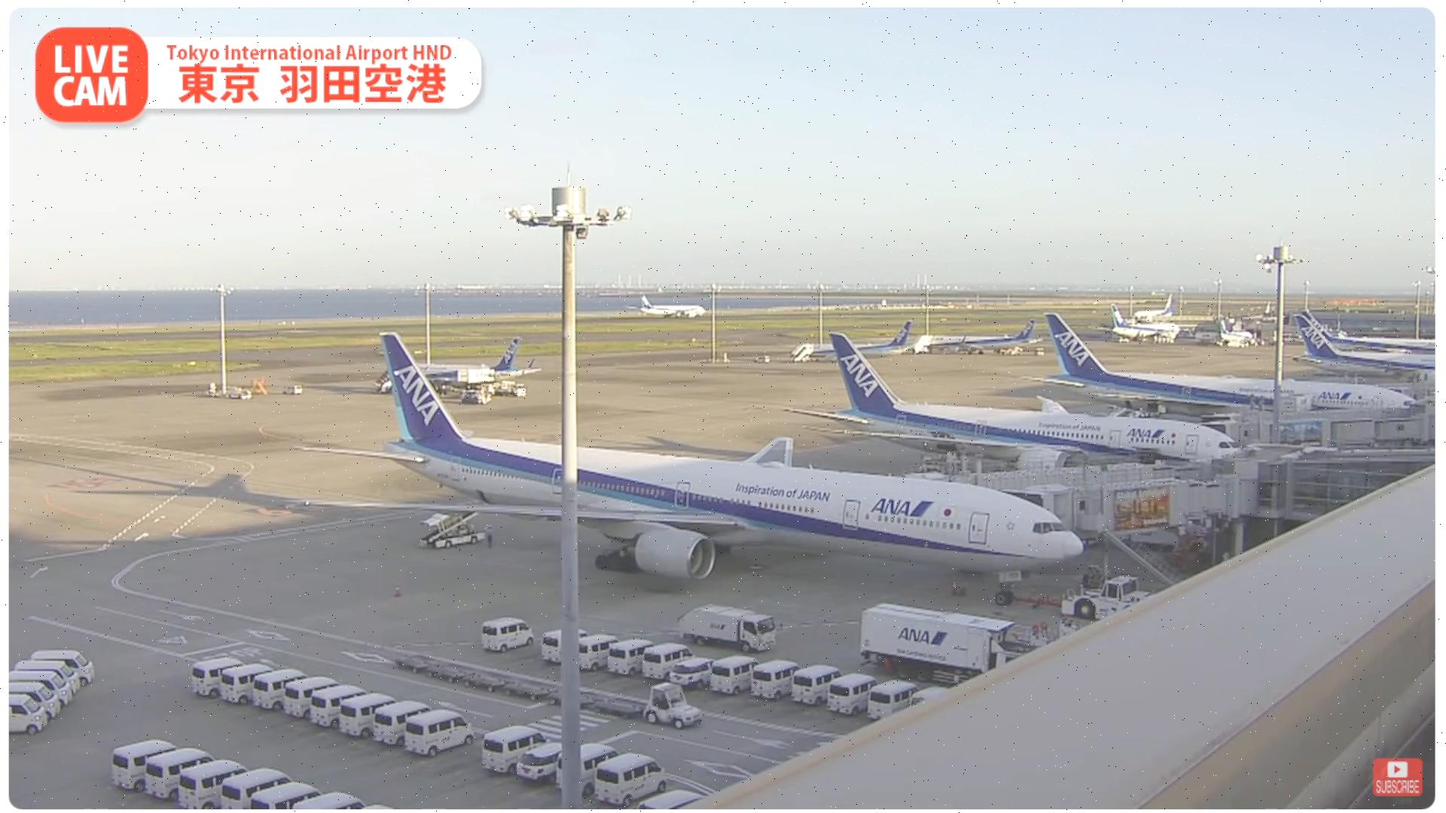APS: (1061, 574, 1155, 621)
Aerobridge: (1002, 452, 1258, 588), (892, 443, 1211, 486)
Airplane: (279, 333, 1086, 605)
Baggage truck: (678, 604, 776, 652)
Catering: (859, 601, 1039, 686)
JCPL: (1007, 618, 1083, 648)
Skyloader: (419, 500, 486, 550)
Window: (1291, 461, 1433, 515)
